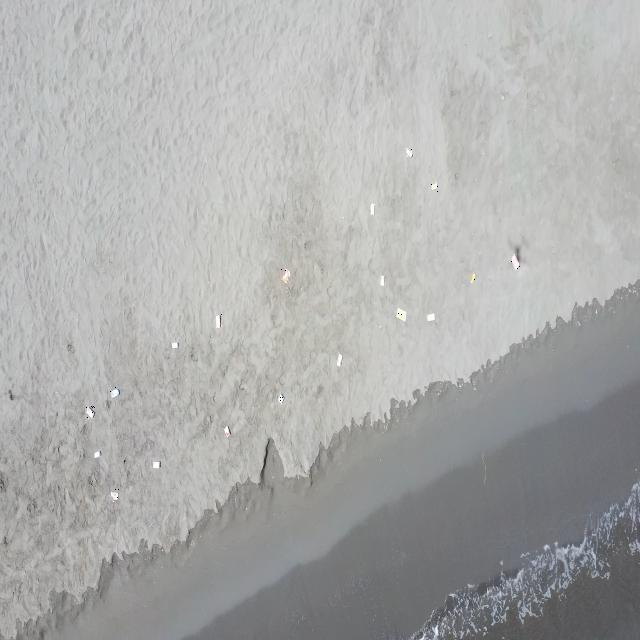Garbage: (280, 267, 289, 283), (511, 253, 519, 268), (395, 308, 404, 320), (85, 406, 94, 417), (336, 352, 342, 366), (111, 489, 118, 500), (111, 387, 119, 396), (151, 460, 160, 467), (8, 388, 13, 400), (224, 426, 230, 436), (430, 181, 436, 191), (216, 313, 220, 327), (406, 147, 412, 156), (369, 202, 373, 215), (278, 393, 283, 403), (94, 449, 100, 457), (427, 312, 433, 320), (171, 340, 177, 347), (471, 272, 475, 281), (380, 275, 383, 286), (500, 94, 504, 99)
